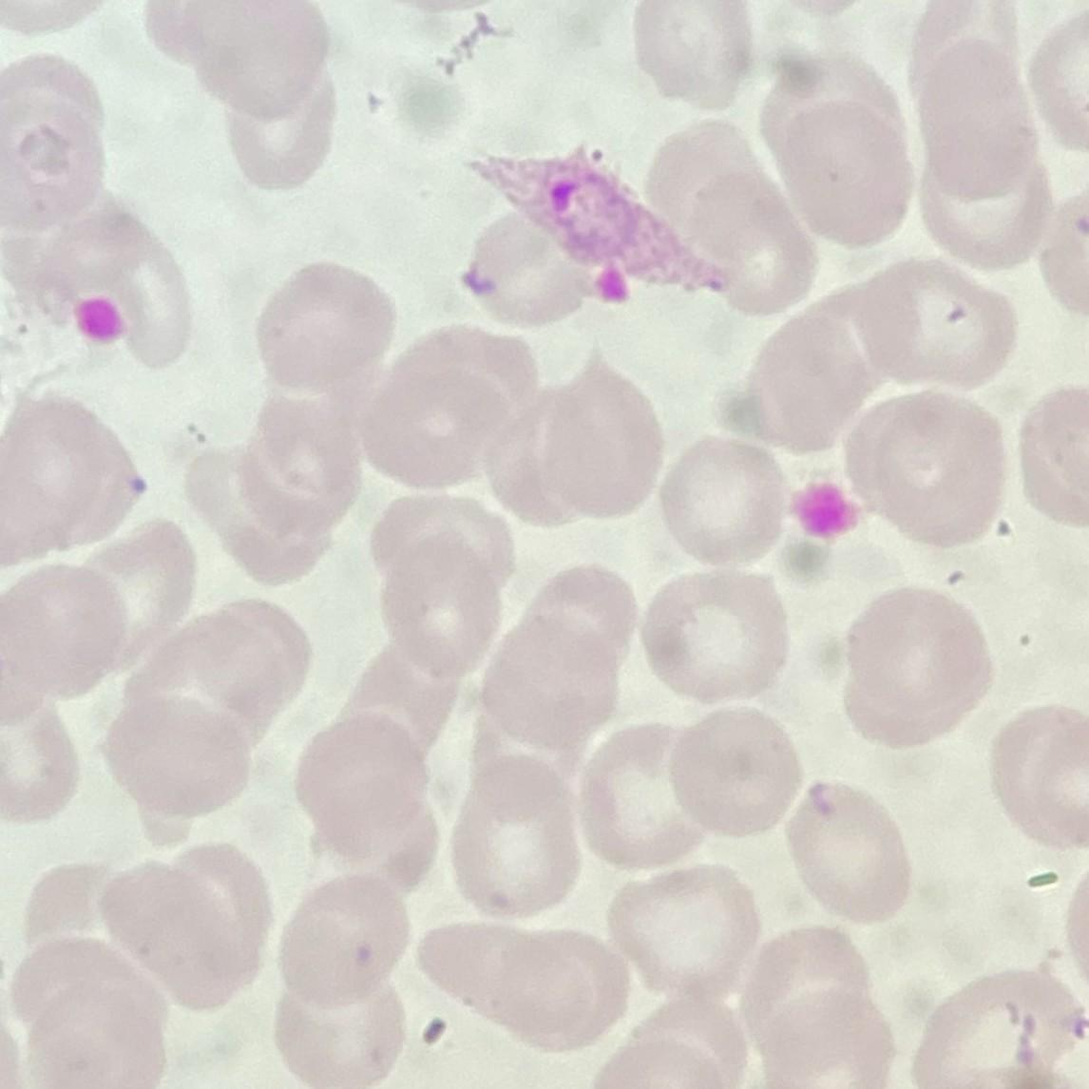Infected: (466, 151, 725, 290)
Uninfected: (846, 386, 1009, 550), (97, 863, 250, 1012), (0, 401, 147, 556), (907, 964, 1089, 1089), (604, 859, 756, 999), (861, 257, 1018, 392), (542, 350, 667, 518), (181, 451, 332, 588), (777, 97, 910, 249), (920, 33, 1042, 198), (452, 759, 579, 917), (640, 571, 790, 699), (914, 132, 1056, 266), (851, 584, 989, 719), (580, 724, 709, 868), (253, 263, 396, 392), (367, 365, 512, 492), (0, 561, 127, 704), (291, 713, 429, 844), (386, 531, 506, 681), (488, 610, 620, 746), (101, 698, 252, 816), (277, 875, 416, 1003), (686, 183, 820, 315), (783, 783, 913, 918), (658, 436, 791, 567), (669, 707, 799, 841), (239, 394, 358, 535), (496, 932, 635, 1052), (190, 0, 335, 114), (741, 930, 877, 1050), (468, 204, 594, 331), (0, 92, 109, 233), (367, 493, 516, 596), (277, 973, 405, 1088), (27, 983, 165, 1089), (990, 704, 1089, 848), (99, 521, 197, 657), (635, 0, 750, 111), (526, 563, 638, 675), (228, 76, 331, 188)
